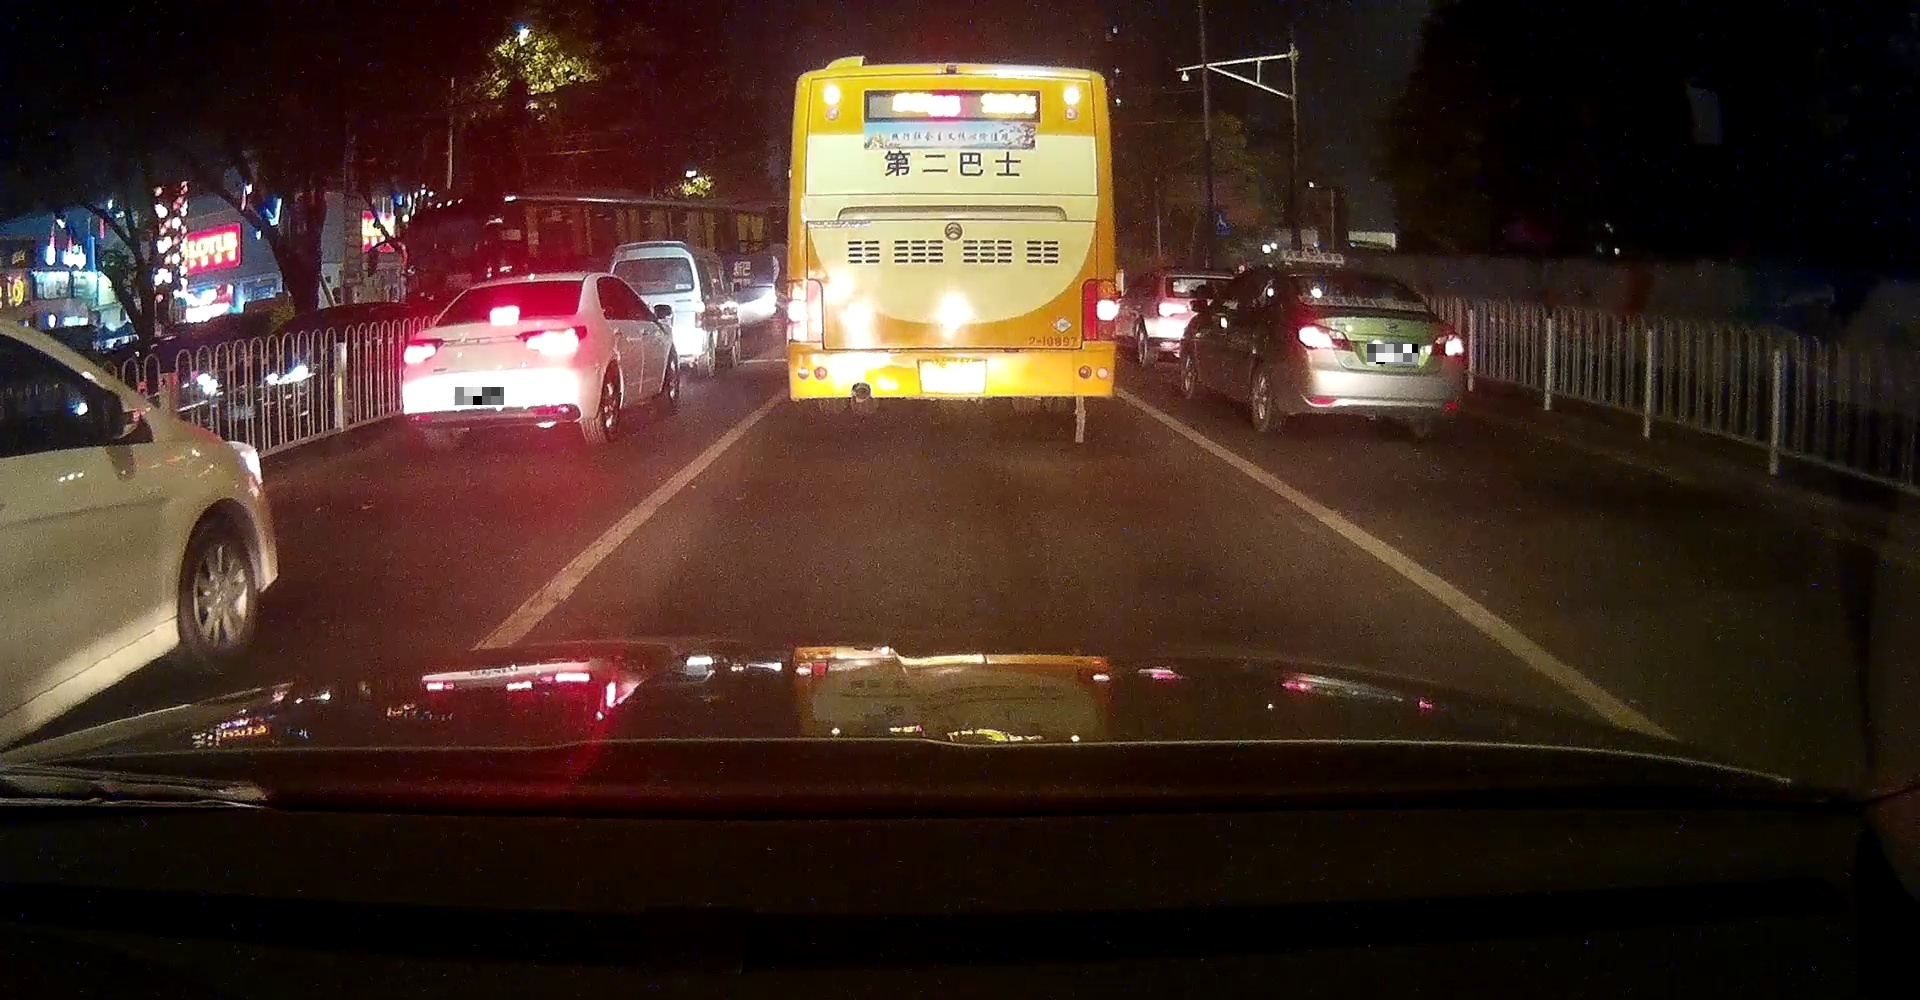L_light: (786, 278, 824, 343), (1293, 319, 1352, 352), (403, 338, 444, 365)
R_light: (516, 324, 588, 357), (1082, 277, 1116, 341), (1430, 331, 1464, 357)
T_light: (488, 303, 522, 324), (937, 62, 969, 77), (1346, 270, 1368, 278)
night-no: (785, 55, 1117, 431), (400, 273, 590, 452), (1276, 264, 1464, 439)
plate_1: (455, 387, 504, 405)
plate_2: (1368, 344, 1418, 364)
